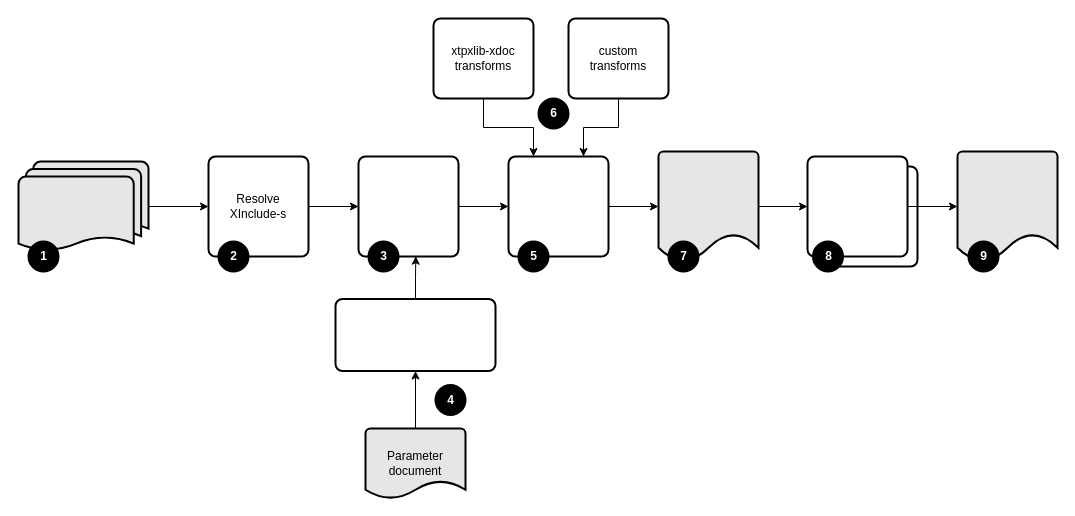
This 1075x516 diagram has some shape labels left out. Here are the shapes that lost their labels. From the top down, the box of each, then its label:
(17, 160, 149, 252): Source documents in xdoc format
(357, 155, 459, 257): Expand parameter references
(507, 155, 609, 257): Process xdoc extensions
(657, 150, 759, 262): "Pure" DocBook version
(806, 155, 908, 257): Convert to target format
(956, 150, 1058, 262): Target format version
(334, 298, 496, 372): Add generated parameters: - DATETIME, DATE, TIME - HREF-SOURCE
